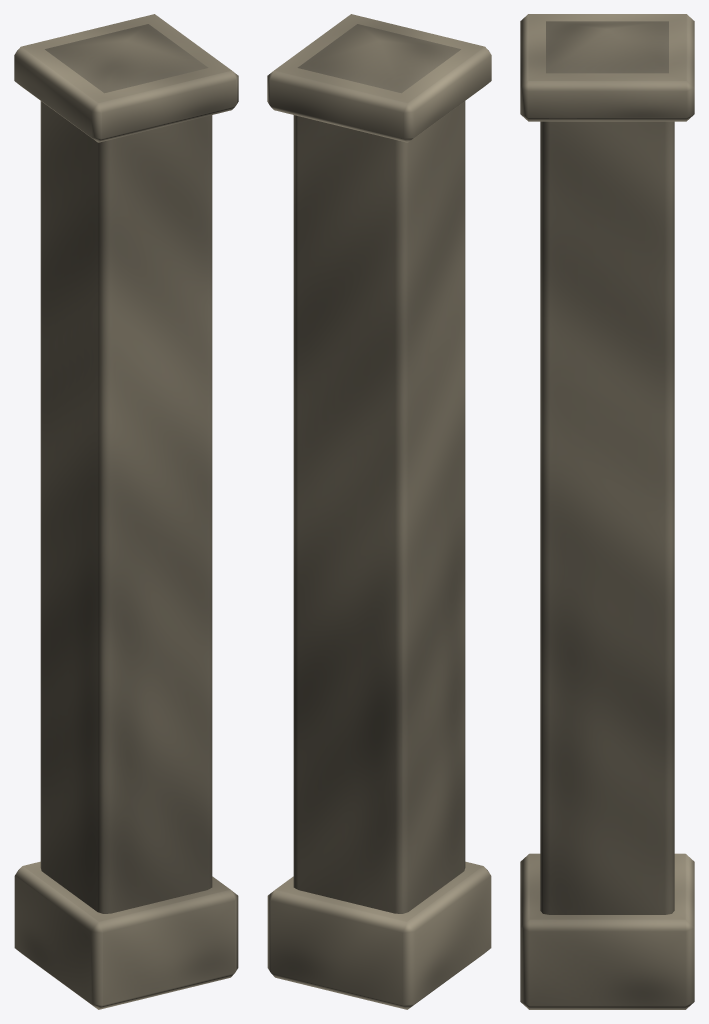
The model's file is Furn_Spa_FencePost.fbx.
3 renders of one model, left to right at view 1: azimuth 30°, elevation 25°; view 2: azimuth 150°, elevation 25°; view 3: azimuth 270°, elevation 25°, orthographic. The views are drawn at different scales.
Parts seen in each view (by area): view 1: Furn_Spa_FencePost; view 2: Furn_Spa_FencePost; view 3: Furn_Spa_FencePost.
Part boxes in pixels (x1,y1,x2,y2): Furn_Spa_FencePost: [14, 14, 238, 1009]; Furn_Spa_FencePost: [267, 14, 491, 1009]; Furn_Spa_FencePost: [520, 14, 694, 1009].
Bounding box in the file's own units: 0.35 × 2.1 × 0.35.
Materials: 1 (1 with a texture image).
